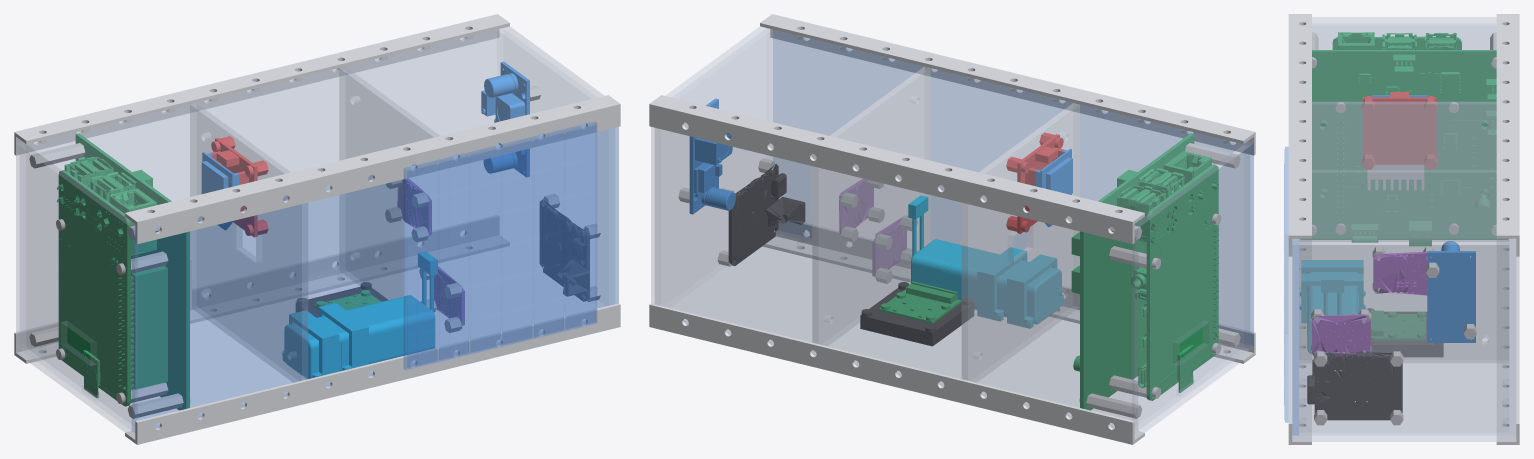
The model's file is cubesat.glb.
3 views of the same model, side by side, from view 1: azimuth 30°, elevation 25°; view 2: azimuth 150°, elevation 25°; view 3: azimuth 270°, elevation 25° (orthographic). The views are drawn at different scales.
Visible parts, largest first — view 1: panel_side_solar, panel_roof, Solar_Array, panel_side, end_cap_pi, bulkhead_1, Raspberry_Pi_4B, rail_3, rail_1, rail_4, bulkhead_2, rail_2 (+13 smaller); view 2: panel_side, panel_roof, panel_side_solar, end_cap_pi, panel_floor, bulkhead_2, Raspberry_Pi_4B, bulkhead_1, rail_4, end_cap_power, rail_2, rail_3 (+12 smaller); view 3: panel_roof, end_cap_power, Interface_PCB, bulkhead_2, panel_floor, bulkhead_1, Charger_Adafruit_4755, rail_3, rail_4, XBee_Adapter, rail_2, Buck_Converter_LM2596 (+13 smaller).
Boxes of the visible parts, x1,y1,x2,y2 form: panel_side_solar: (132, 123, 618, 432); panel_roof: (16, 26, 604, 229); Solar_Array: (404, 122, 596, 369); panel_side: (16, 30, 496, 348); end_cap_pi: (20, 145, 137, 430); bulkhead_1: (190, 103, 307, 382); Raspberry_Pi_4B: (57, 157, 156, 406); rail_3: (125, 95, 620, 244); rail_1: (125, 303, 620, 444); rail_4: (14, 14, 509, 155); bulkhead_2: (339, 67, 457, 299); rail_2: (14, 215, 509, 363); panel_side: (651, 123, 1137, 432); panel_roof: (665, 26, 1253, 229); panel_side_solar: (773, 30, 1253, 348); end_cap_pi: (1132, 145, 1249, 430); panel_floor: (671, 233, 1253, 439); bulkhead_2: (812, 67, 930, 351); Raspberry_Pi_4B: (1117, 151, 1218, 400); bulkhead_1: (962, 103, 1079, 382); rail_4: (649, 95, 1144, 244); end_cap_power: (655, 28, 772, 307); rail_2: (649, 303, 1144, 444); rail_3: (760, 14, 1255, 155); panel_roof: (1292, 17, 1515, 244); end_cap_power: (1299, 242, 1508, 435); Interface_PCB: (1300, 50, 1507, 245); bulkhead_2: (1299, 170, 1508, 362); panel_floor: (1292, 245, 1515, 441); bulkhead_1: (1312, 102, 1496, 194); Charger_Adafruit_4755: (1307, 352, 1402, 420); rail_3: (1288, 14, 1311, 256); rail_4: (1496, 14, 1519, 256); XBee_Adapter: (1362, 92, 1436, 169); rail_2: (1496, 238, 1519, 444); Buck_Converter_LM2596: (1427, 241, 1475, 342).
Bounding box in the file's own units: 227 × 100 × 102.
